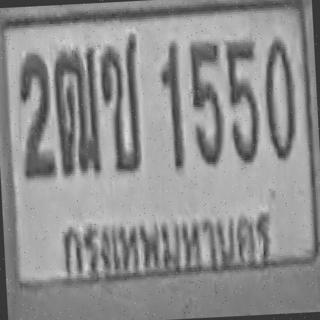A10: (97, 32, 146, 177)
A18: (51, 45, 102, 178)
N00: (260, 35, 295, 159)
N01: (158, 39, 184, 170)
N02: (16, 50, 56, 180)
N05: (187, 39, 224, 165), (225, 38, 260, 162)
P04: (52, 203, 283, 285)
